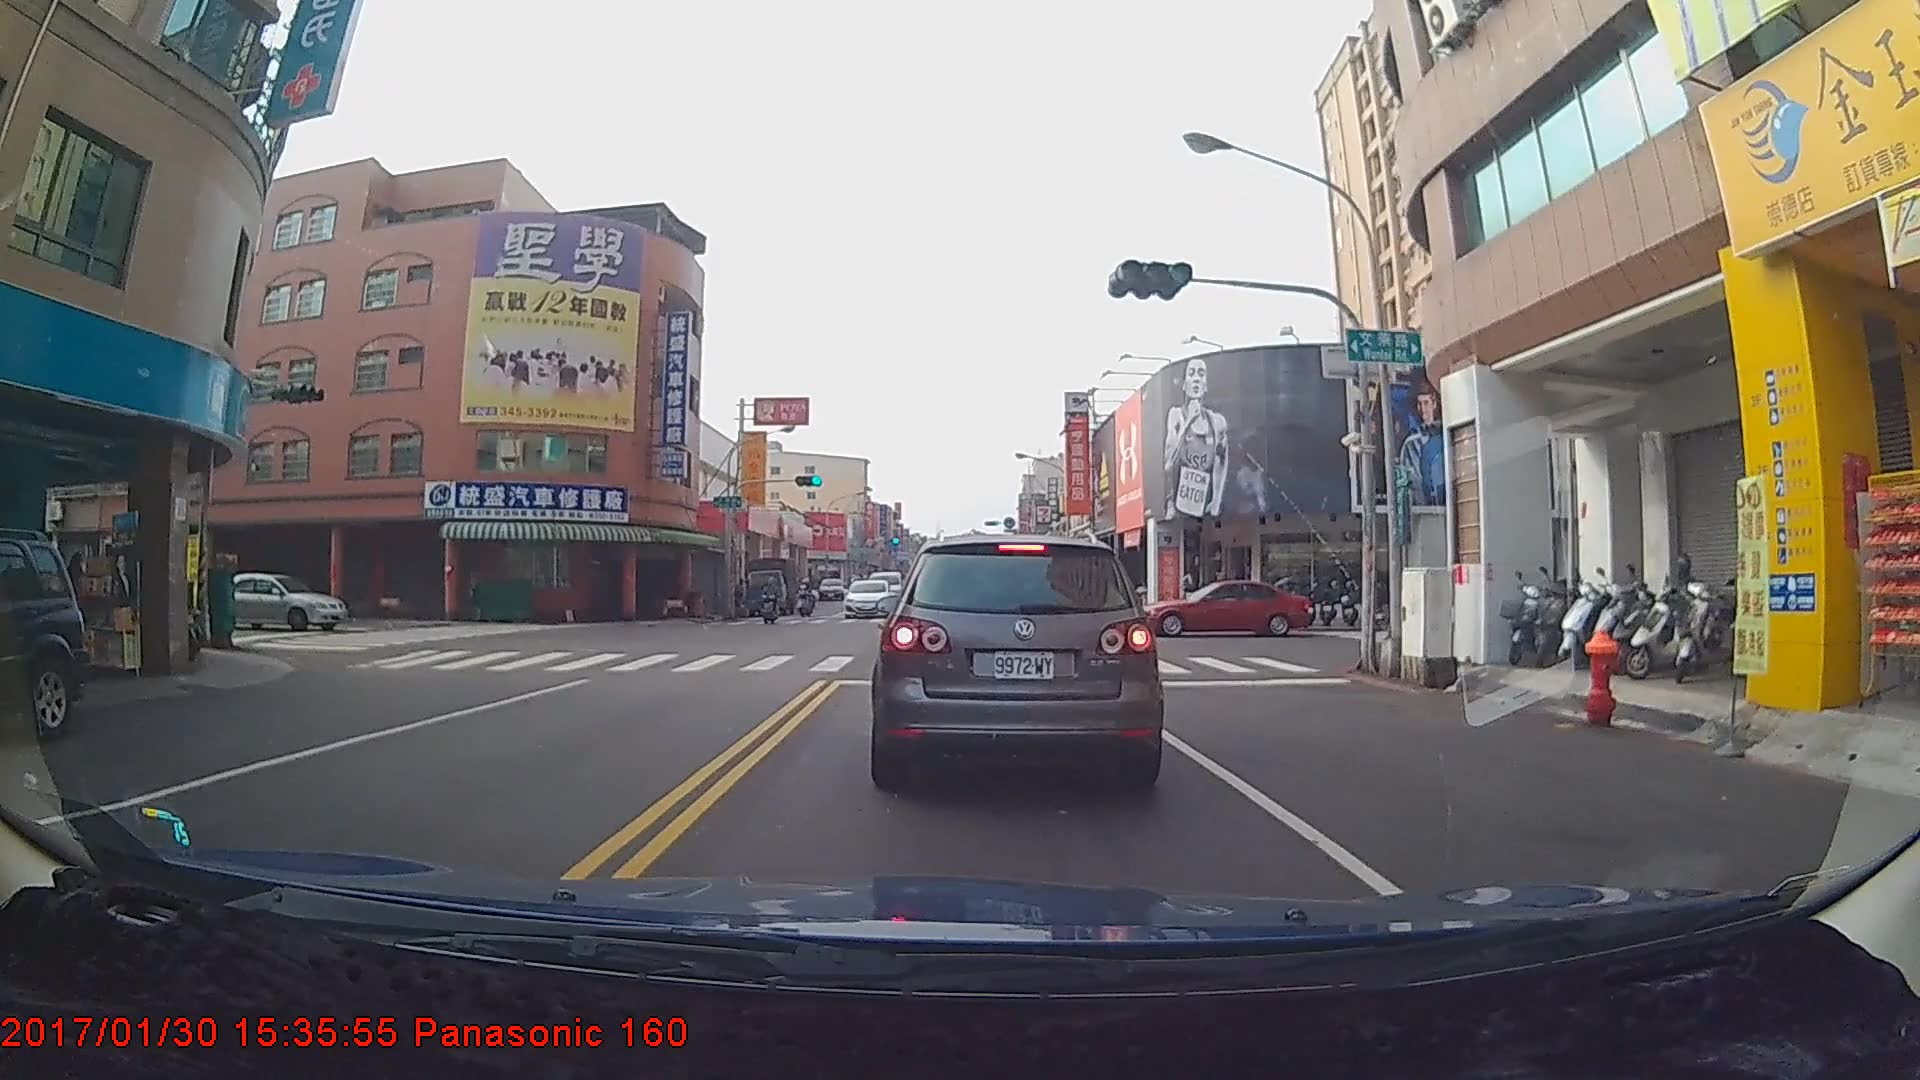rider: (753, 576, 789, 629), (794, 580, 821, 623)
vehicle: (877, 526, 1158, 791), (0, 533, 89, 738), (1140, 577, 1314, 635), (194, 567, 345, 629), (743, 554, 798, 613), (842, 578, 893, 620)
